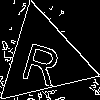R: (18, 34, 66, 88)
